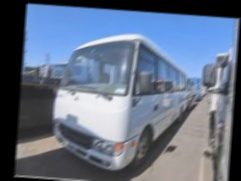bus: (49, 28, 199, 179)
